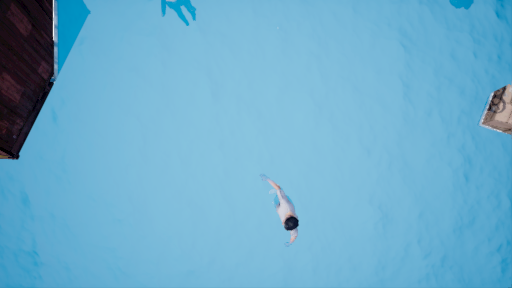person: (264, 176, 304, 243)
